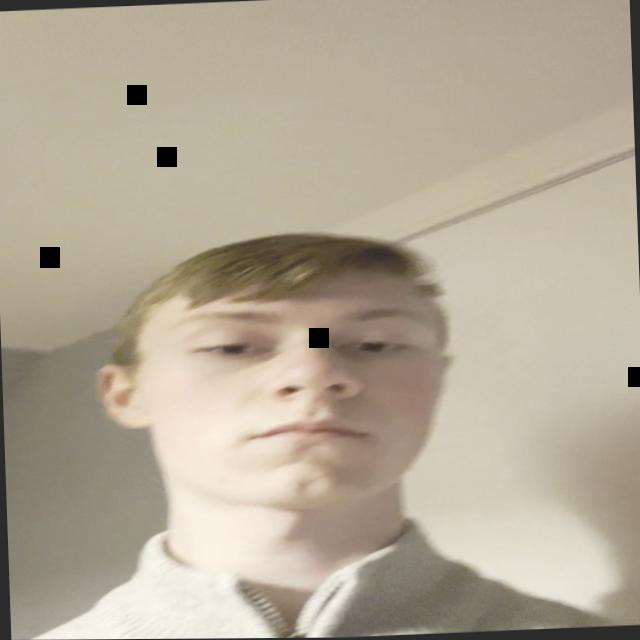NO-Mask: (102, 245, 461, 547)
